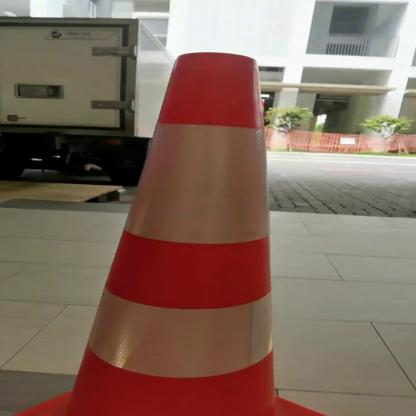cone: (10, 51, 351, 415)
